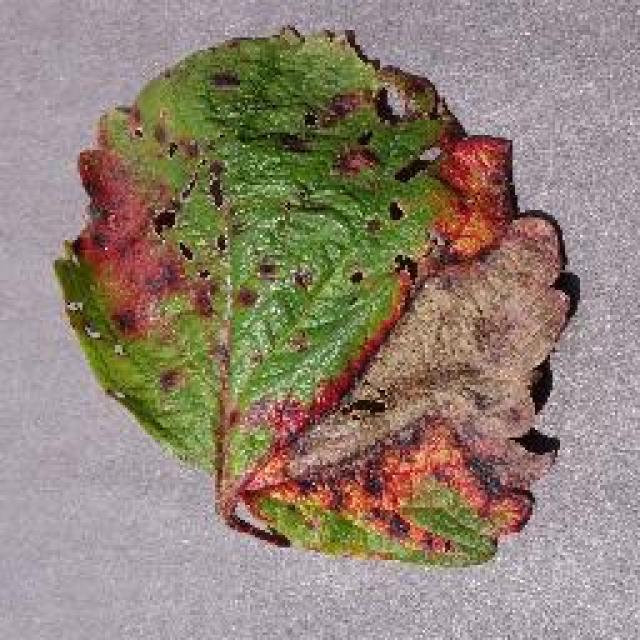Strawberry leaf scorch: (88, 133, 537, 495)
